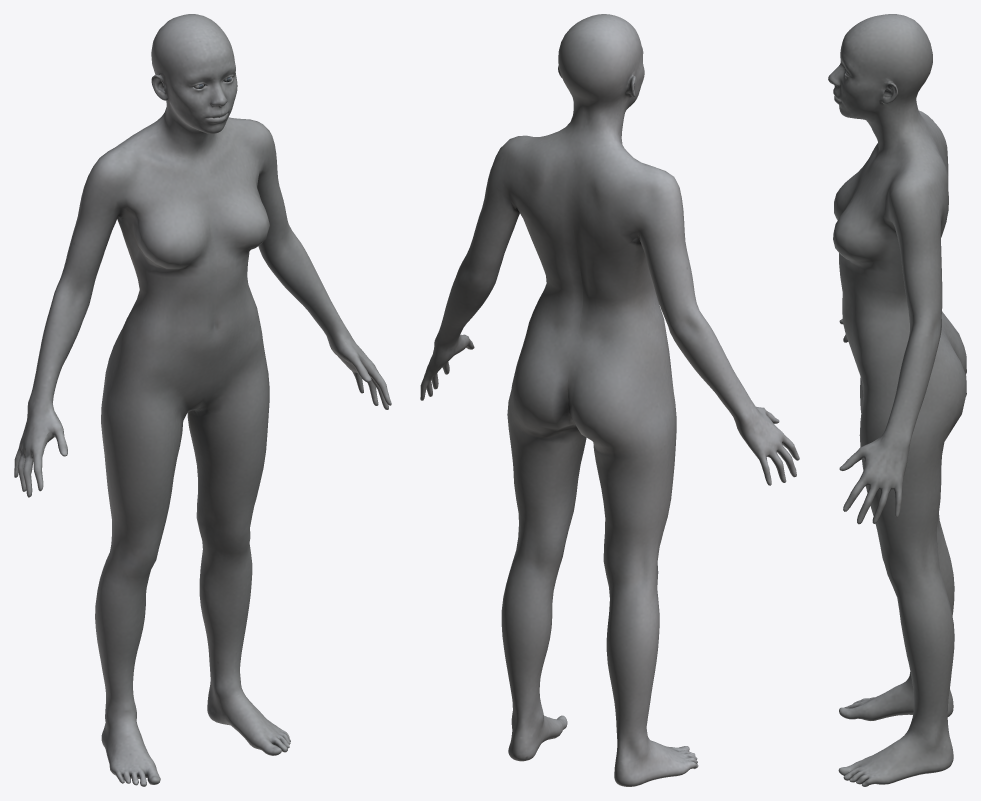
File: female.obj
3 renders of one model, left to right at view 1: azimuth 30°, elevation 25°; view 2: azimuth 150°, elevation 25°; view 3: azimuth 270°, elevation 25°, orthographic.
Visible parts, largest first — view 1: female; view 2: female; view 3: female.
Boxes of the visible parts, <box> form: female: <box>14,14,391,786</box>; female: <box>420,14,799,786</box>; female: <box>828,14,966,786</box>.
Bounding box in the file's own units: 0.8422 × 1.64 × 0.2826.
